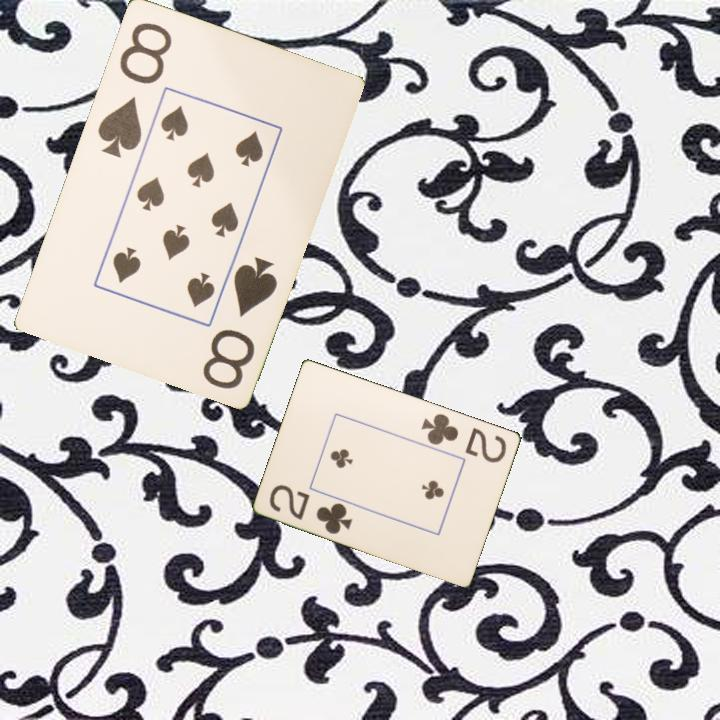2c: (418, 410, 510, 466), (266, 481, 355, 537)
8s: (93, 18, 175, 160), (198, 252, 280, 392)
